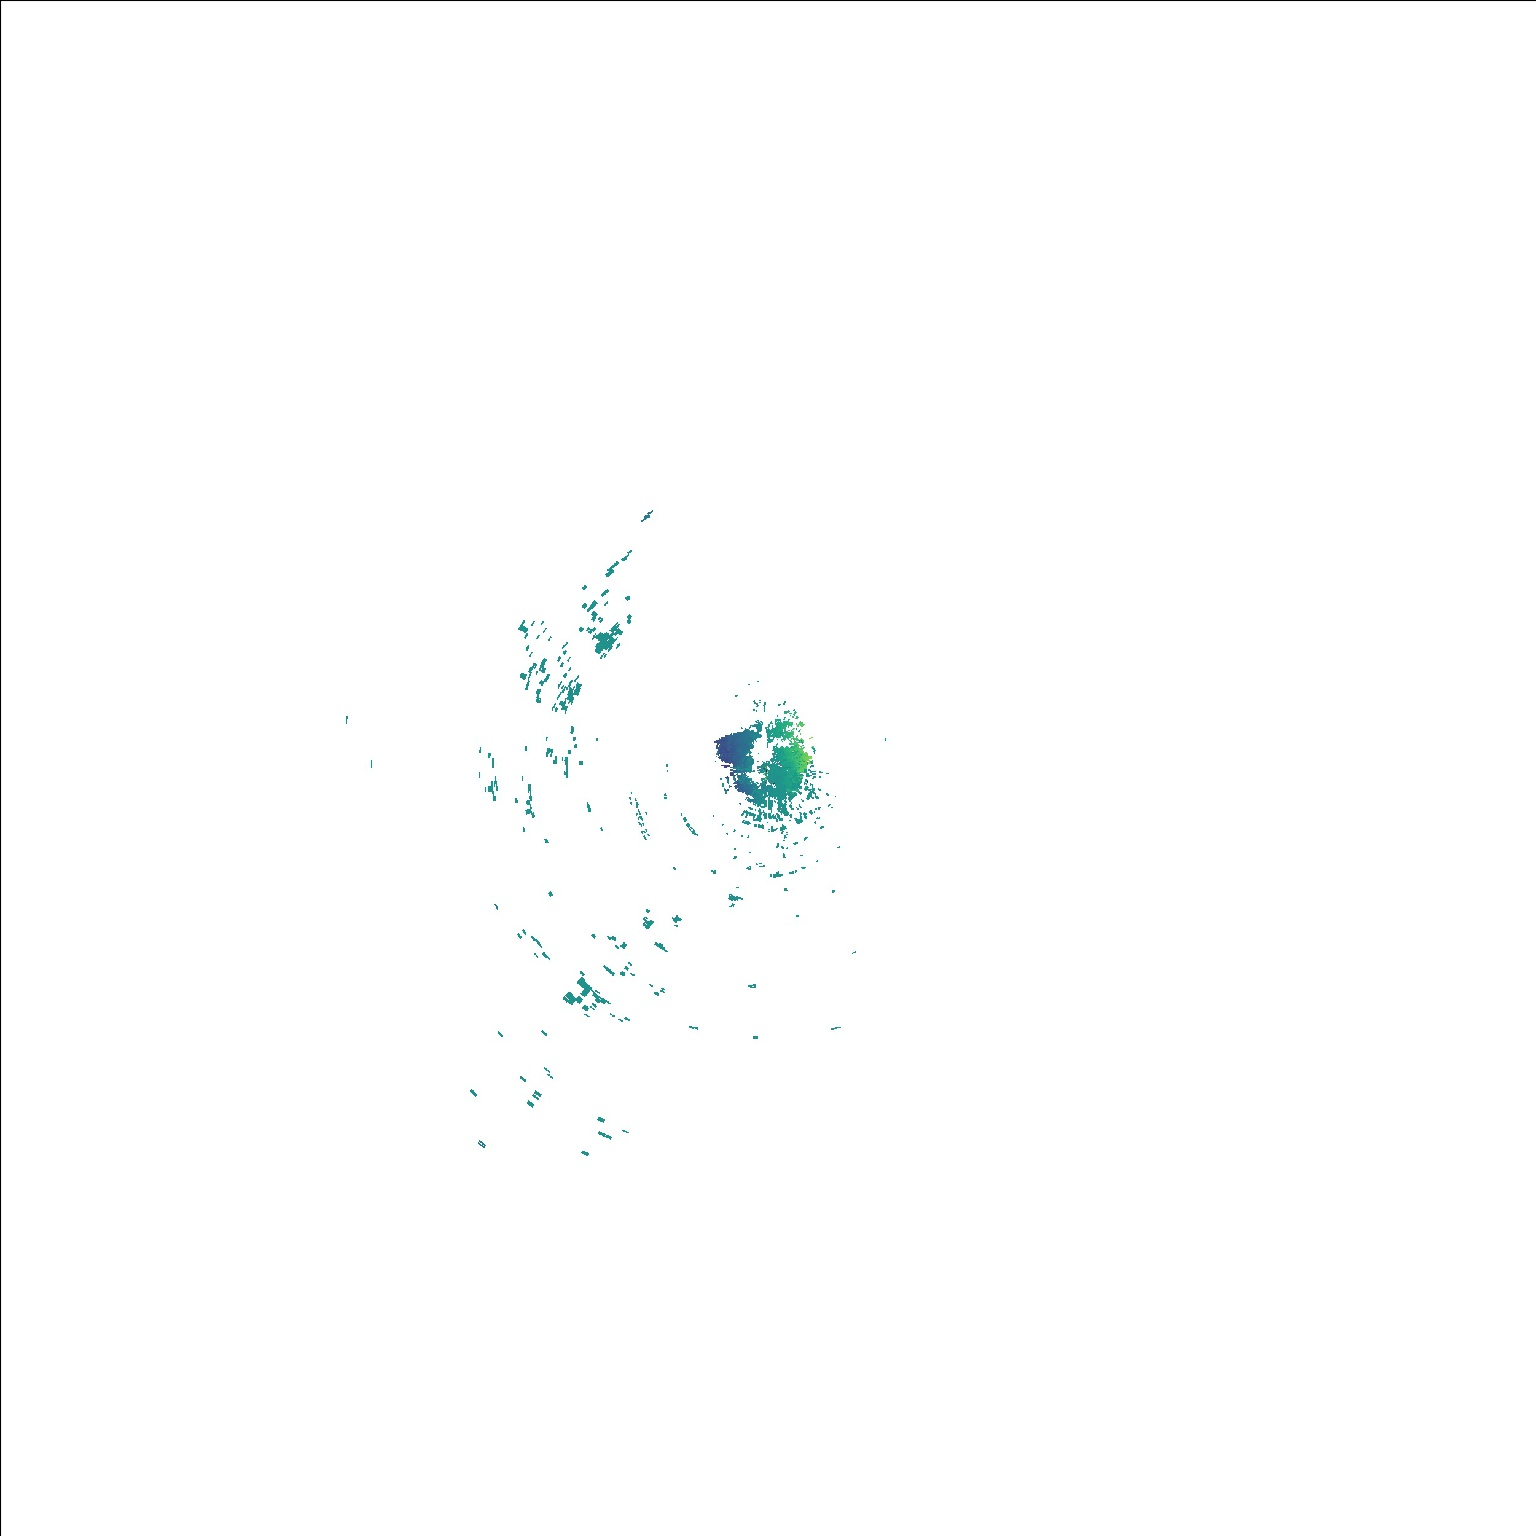fall: (634, 504, 657, 527)
